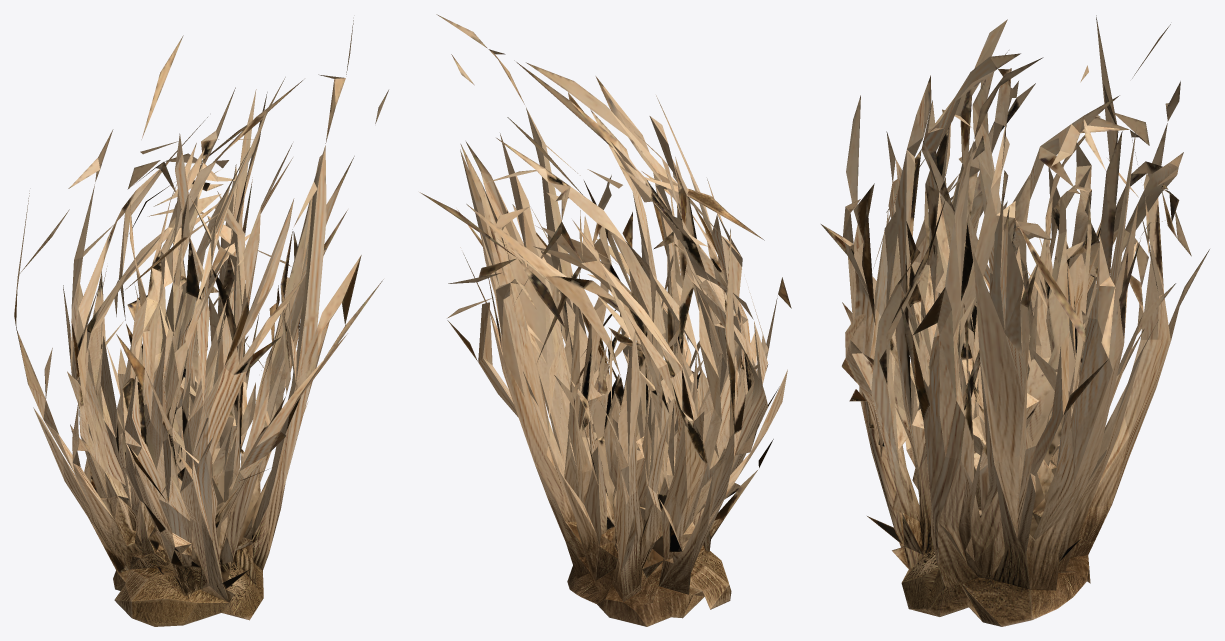
File: grass_dry.glb
3 renders of one model, left to right at view 1: azimuth 30°, elevation 25°; view 2: azimuth 150°, elevation 25°; view 3: azimuth 270°, elevation 25°, orthographic. The views are drawn at different scales.
Bounding box in the file's own units: 1.13 × 1.75 × 0.9589.
Materials: 1 (1 with a texture image).
